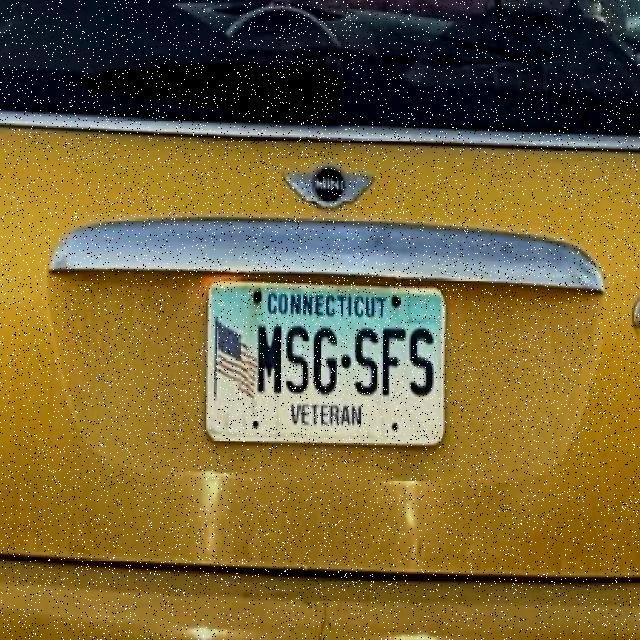licenseplate: (202, 279, 448, 447)
